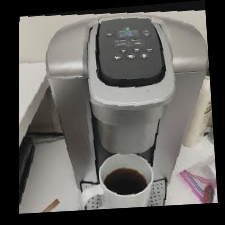10oz: (126, 54, 135, 61)
12oz: (142, 53, 151, 60)
4oz: (119, 47, 127, 54)
6oz: (133, 47, 141, 54)
8oz: (113, 55, 122, 62)
